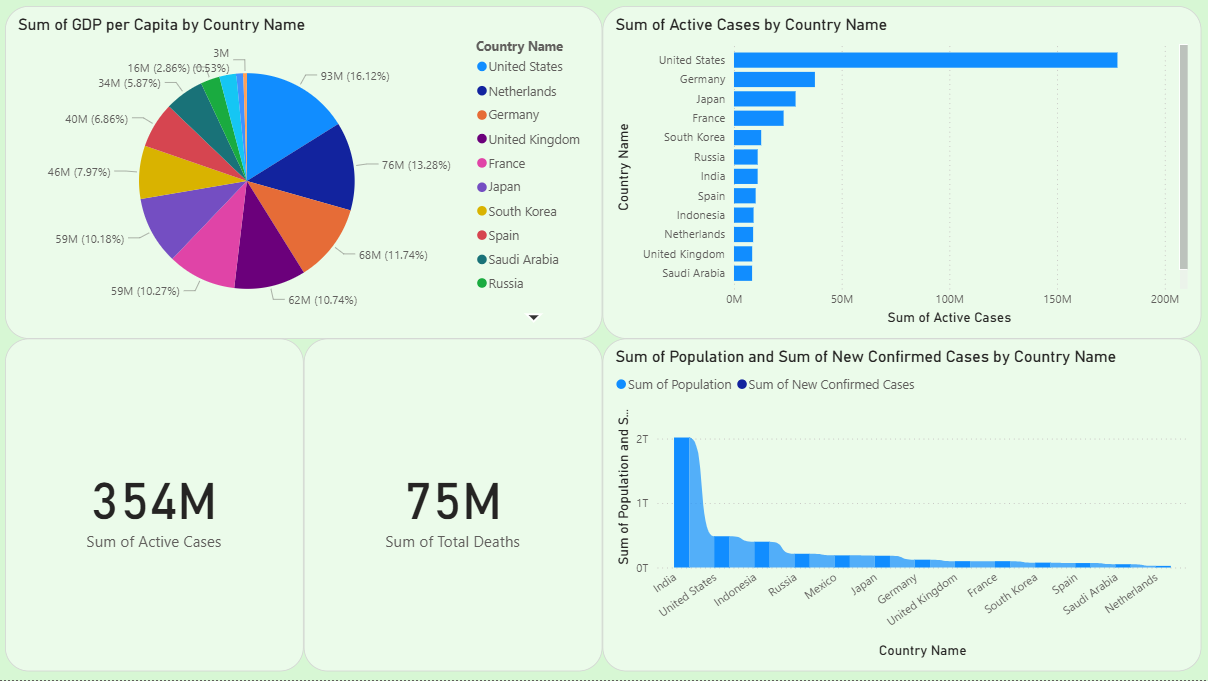

The page's visual inventory and layout, read from the dashboard file:
{"tool":"powerbi","page":{"name":"Page 1","canvas":[1280,720],"ordinal":0},"visuals":[{"type":"pieChart","fields":{"Category":["Sheet1.Country Name"],"Y":["Sum(Sheet1.GDP per Capita)"]},"box":[10.5,10.5,628.9,350],"z":0},{"type":"barChart","fields":{"Category":["Sheet1.Country Name"],"Y":["Sum(Sheet1.Active Cases)"]},"box":[639.5,10.5,630.3,350],"z":1000},{"type":"ribbonChart","fields":{"Category":["Sheet1.Country Name"],"Y":["Sum(Sheet1.Population)","Sum(Sheet1.New Confirmed Cases)"]},"box":[639.5,360.5,630.3,350],"z":3000},{"type":"card","fields":{"Values":["Sum(Sheet1.Total Deaths)"]},"box":[325,360.5,314.5,350],"z":3001},{"type":"card","fields":{"Values":["Sum(Sheet1.Active Cases)"]},"box":[10.5,360.5,314.5,350],"z":3002}]}

Visuals, with their boxes in screenshot pixels (x1, y1, x2, y2), scaled from the page's 1280x720 canvas onto the 1208x681 screenshot:
pieChart - Sheet1.Country Name x Sum(Sheet1.GDP per Capita): BBox(10, 10, 603, 341)
barChart - Sheet1.Country Name x Sum(Sheet1.Active Cases): BBox(604, 10, 1198, 341)
ribbonChart - Sheet1.Country Name x Sum(Sheet1.Population): BBox(604, 341, 1198, 672)
card - Sum(Sheet1.Total Deaths): BBox(307, 341, 604, 672)
card - Sum(Sheet1.Active Cases): BBox(10, 341, 307, 672)
